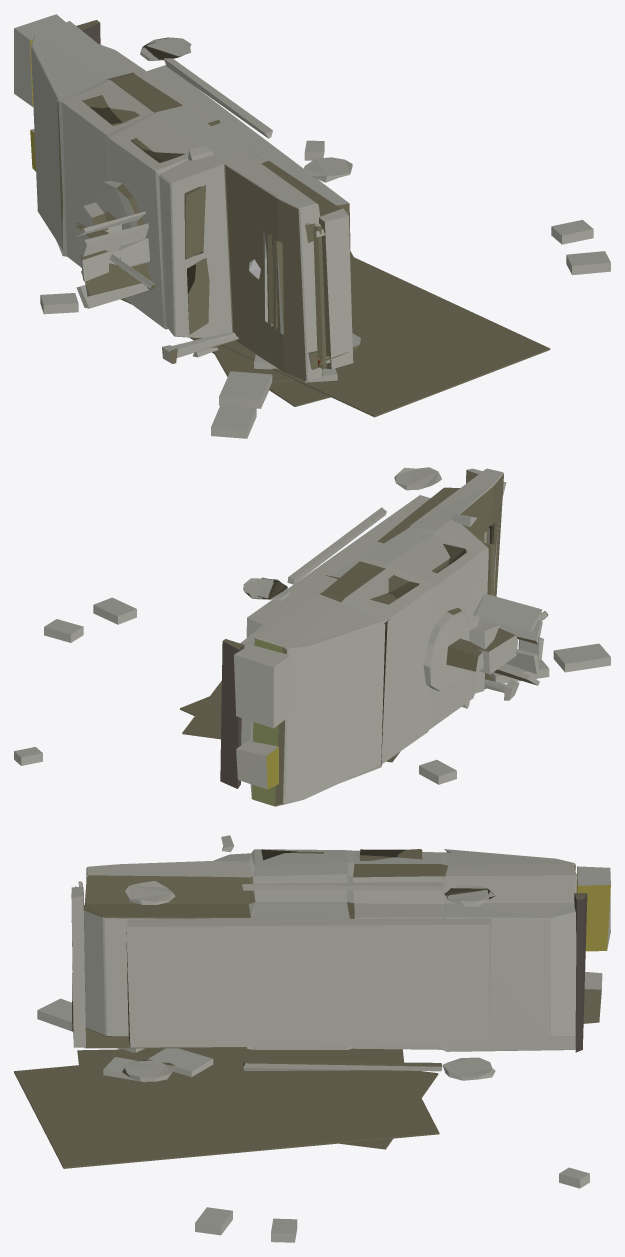
File: SM_RestosVamtac_v1_LOD0.fbx
3 renders of one model, top to bottom at view 1: azimuth 30°, elevation 25°; view 2: azimuth 150°, elevation 25°; view 3: azimuth 270°, elevation 25°, orthographic. The views are drawn at different scales.
Visible parts, largest first — view 1: SM_bloques.restos_vamtac_v1_LOD0; view 2: SM_bloques.restos_vamtac_v1_LOD0; view 3: SM_bloques.restos_vamtac_v1_LOD0.
Boxes of the visible parts, x1=… form: SM_bloques.restos_vamtac_v1_LOD0: x1=14, y1=14, x2=610, y2=438; SM_bloques.restos_vamtac_v1_LOD0: x1=14, y1=467, x2=610, y2=806; SM_bloques.restos_vamtac_v1_LOD0: x1=14, y1=835, x2=610, y2=1242.
Bounding box in the file's own units: 7.16 × 2.73 × 7.26.
